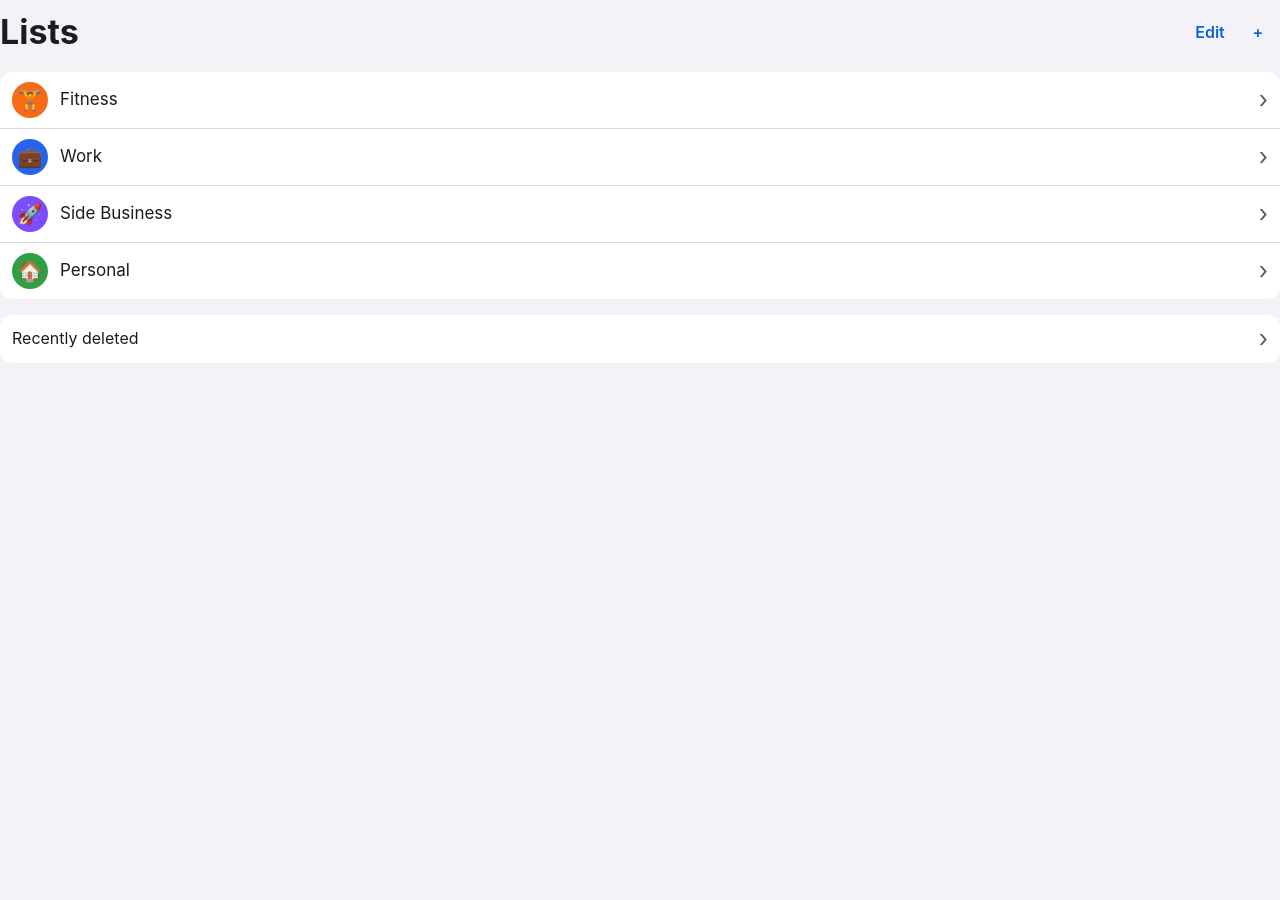
Lists screen › shows list names containing HTML as plain text
Expected: the text "Fitness" is shown, [60,89,118,109]
Step 1. Click the button named "New list" → coordinates (1258, 32), box [1236,10,1279,54]
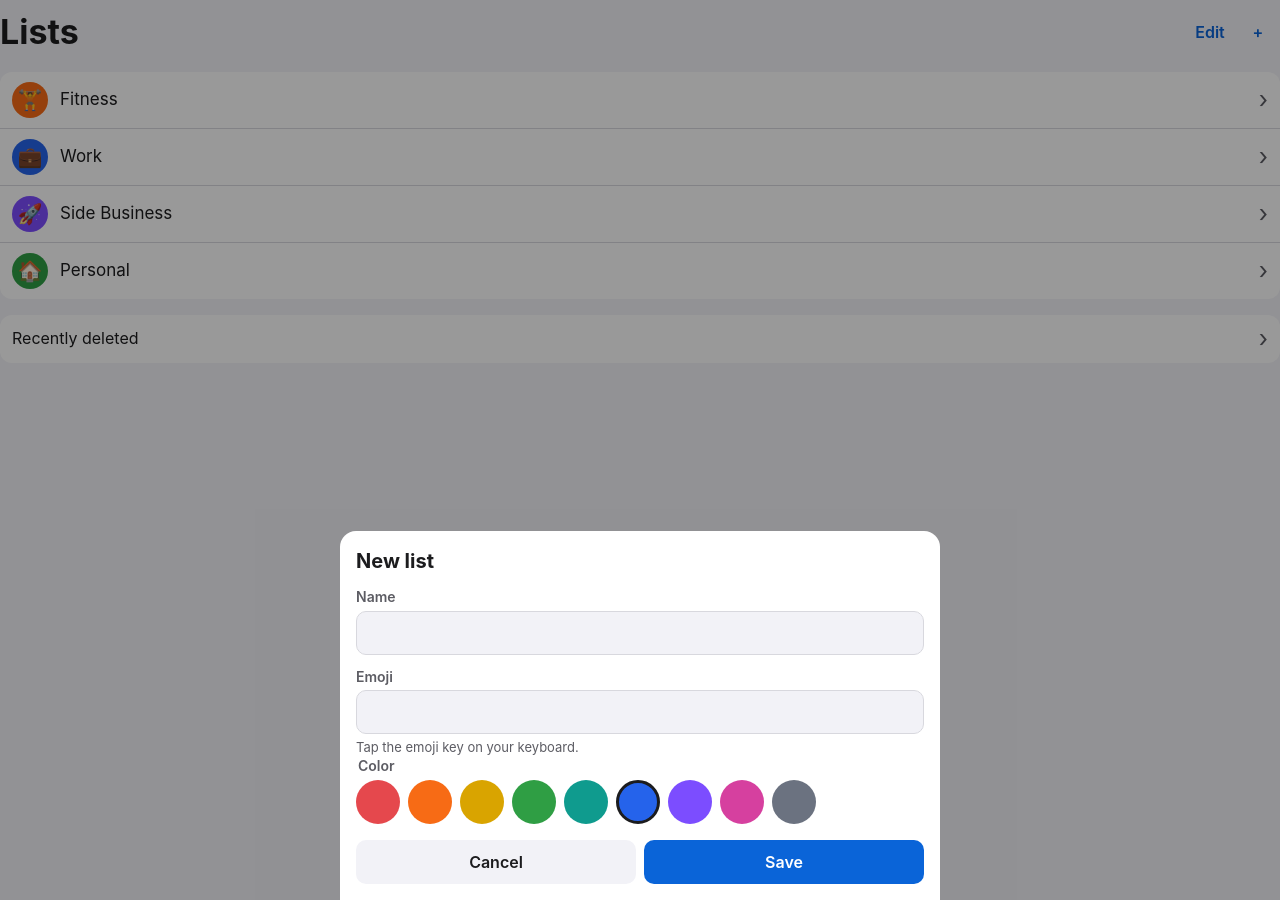
Step 2. Type "<img src=x onerror=alert(1)>" into the field labelled "Name" → coordinates (640, 633), box [356,611,924,655]
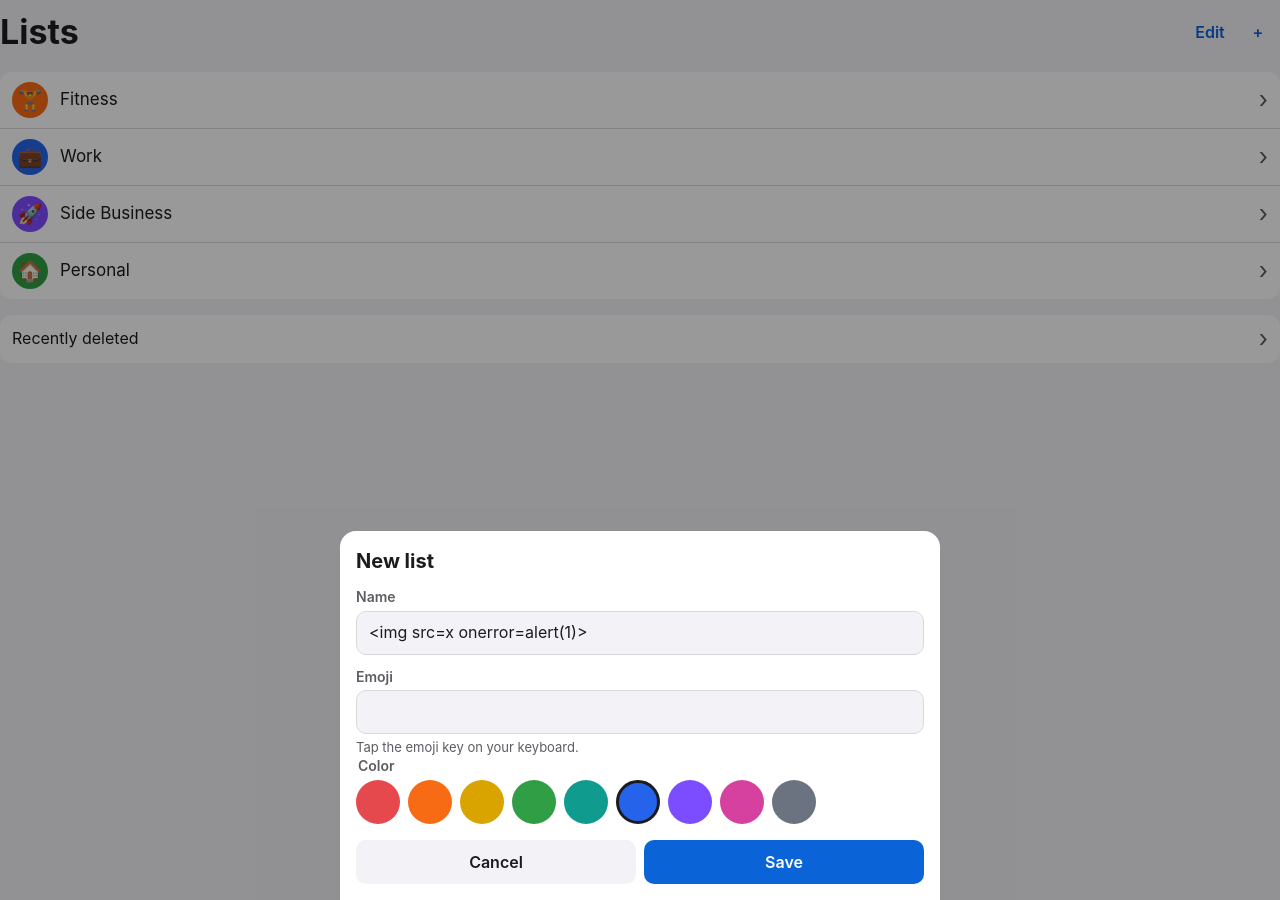
Step 3. Type "📚" into the field labelled "Emoji" → coordinates (640, 712), box [356,690,924,734]
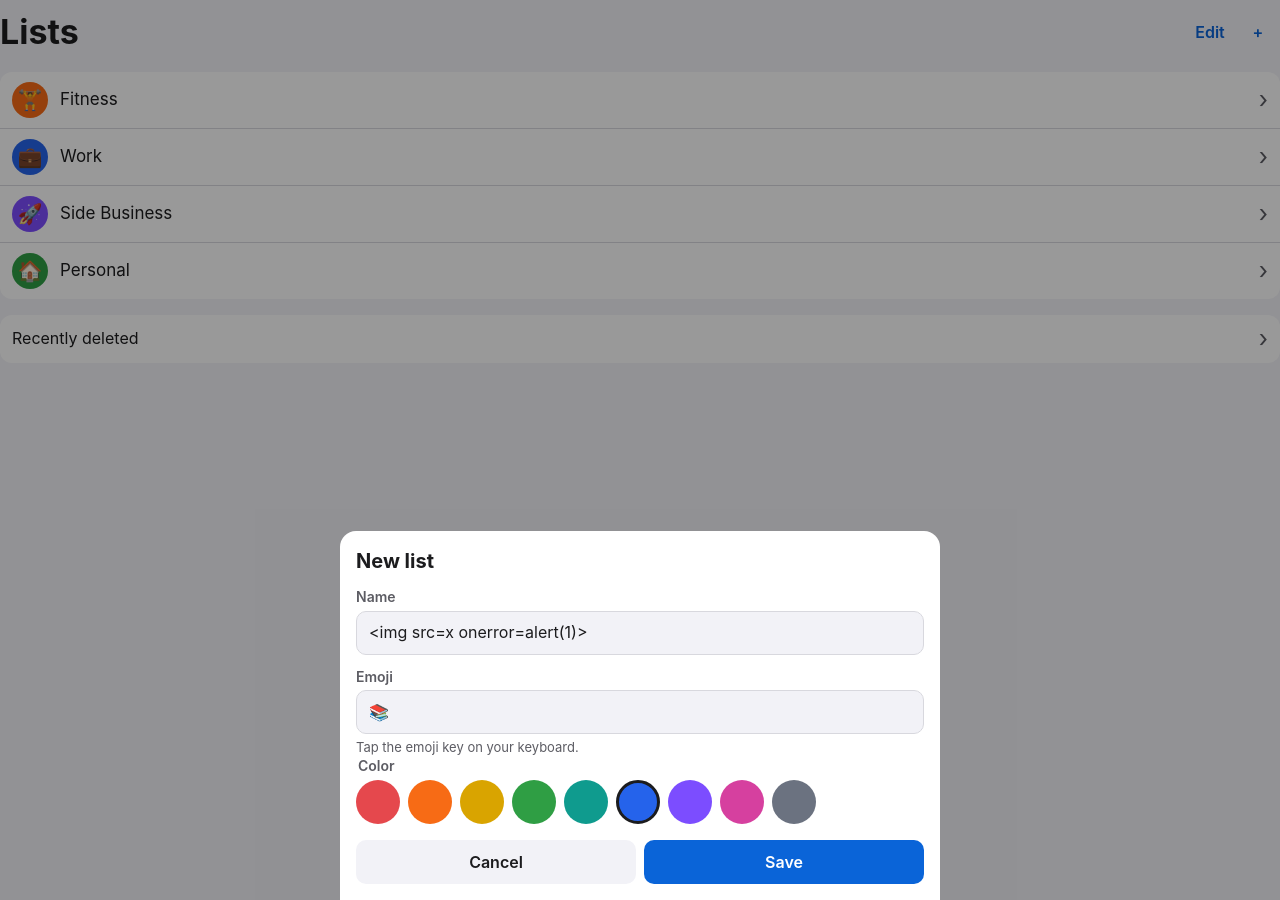
Step 4. Click the radio button named "teal" → coordinates (586, 802), box [564,780,608,824]
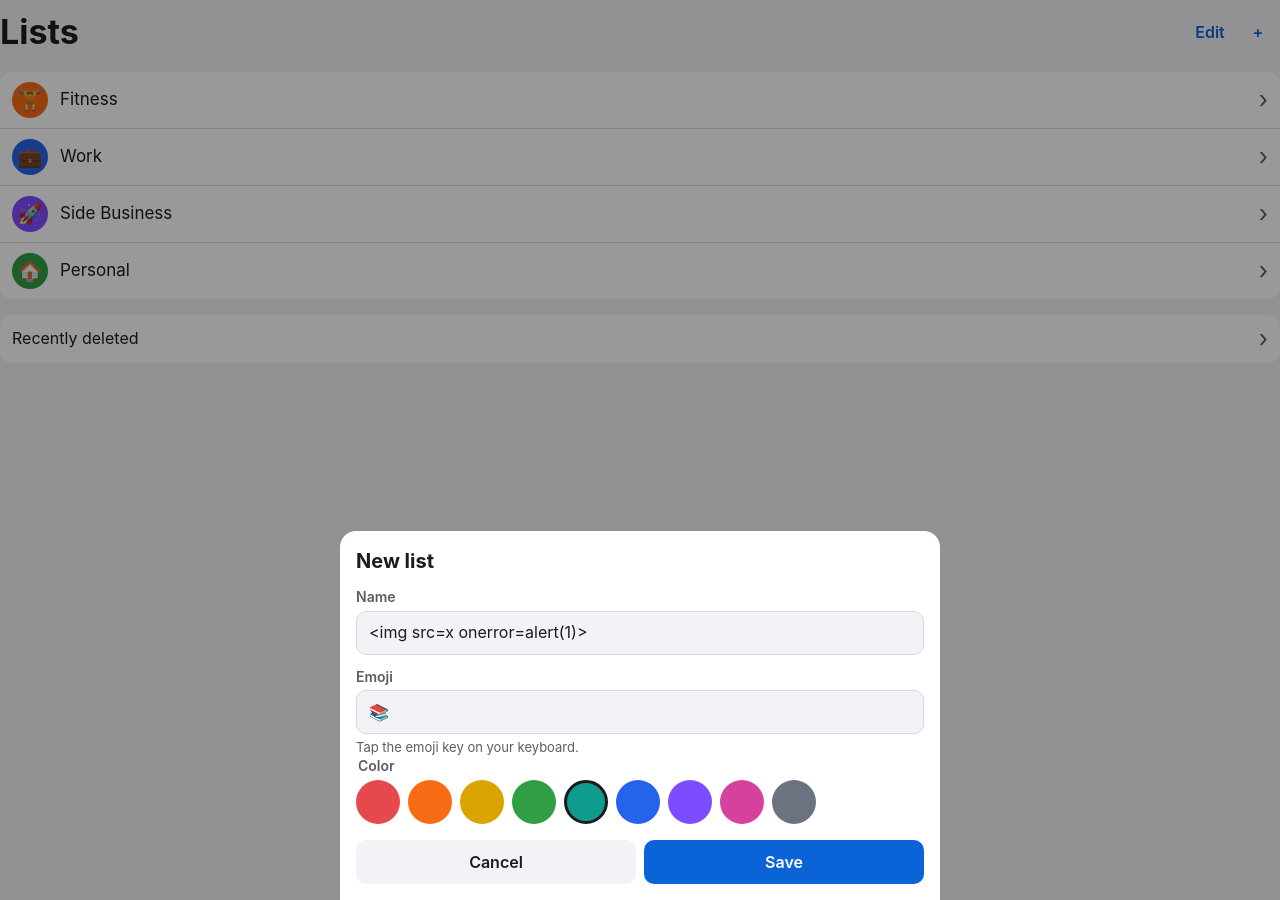
Step 5. Click the button "Save" → coordinates (784, 862), box [644,840,924,884]
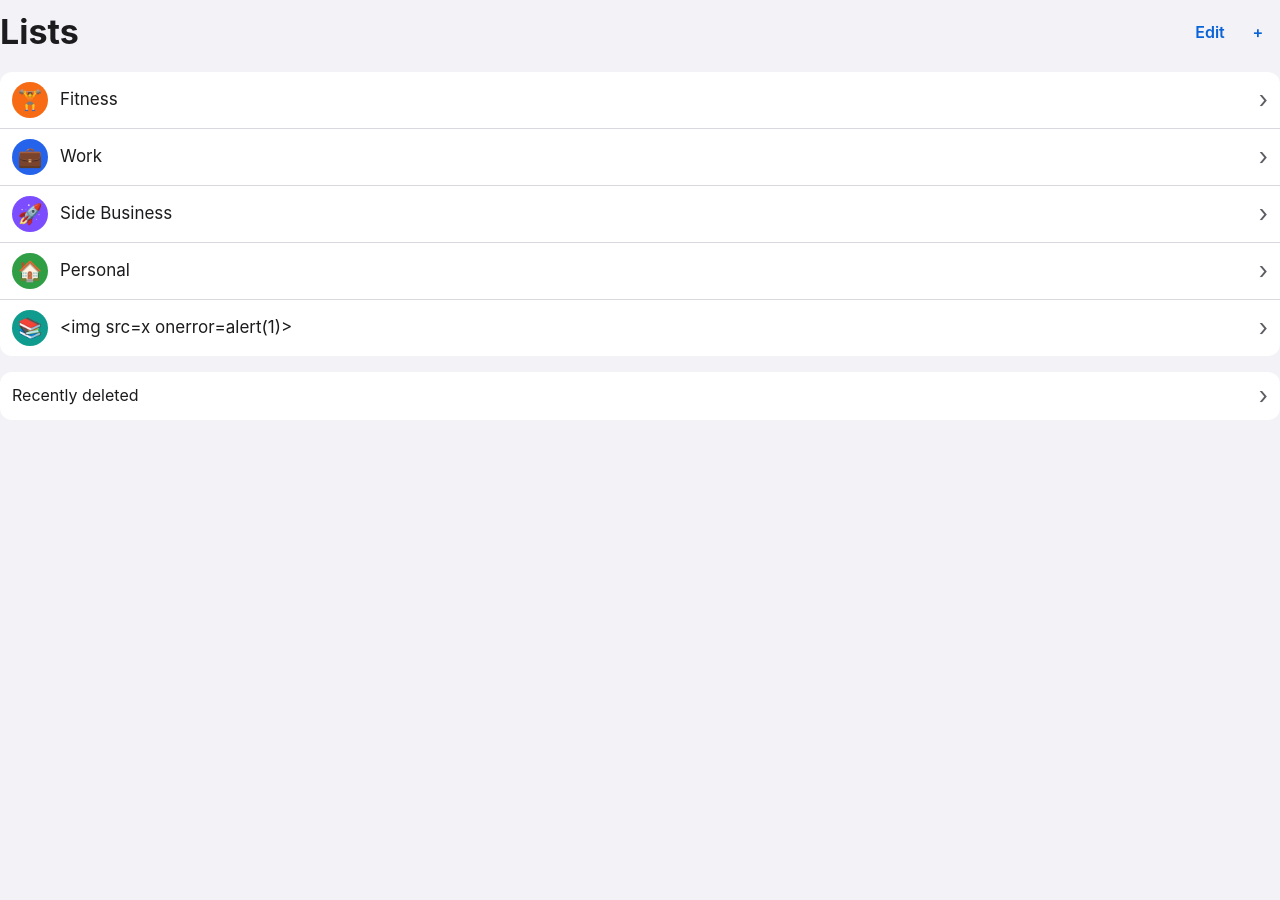
Expected: the text "<img src=x onerror=alert(1)>" is shown, [60,317,292,337]
